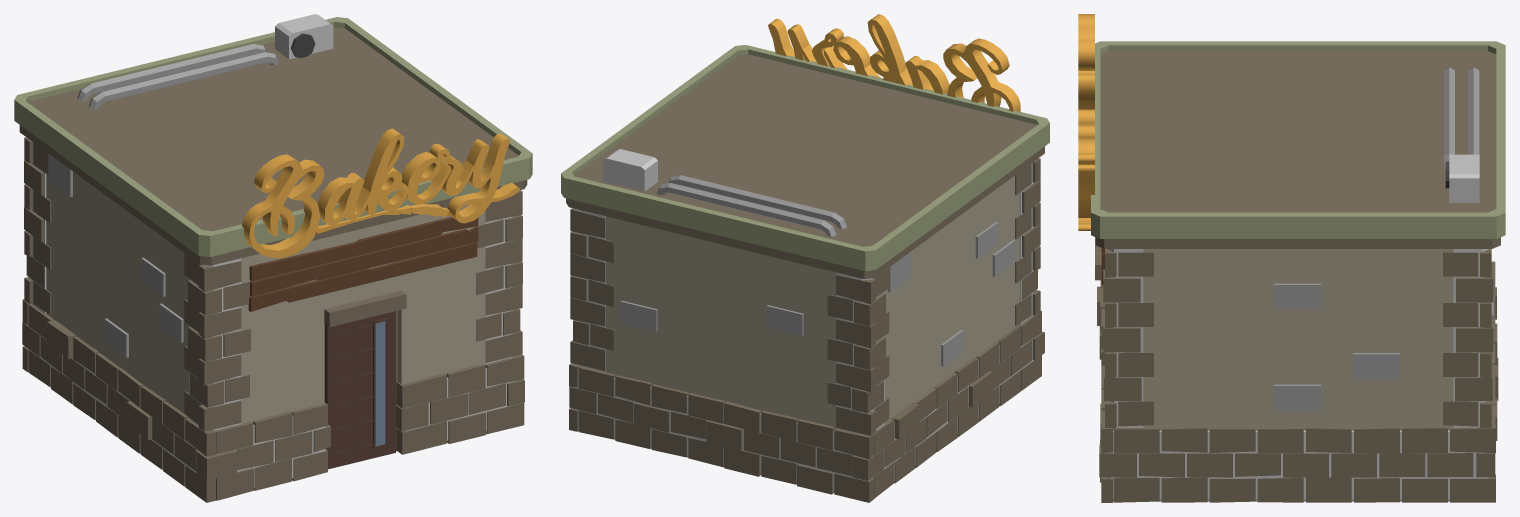
The model's file is Bakery.fbx.
3 renders of one model, left to right at view 1: azimuth 30°, elevation 25°; view 2: azimuth 150°, elevation 25°; view 3: azimuth 270°, elevation 25°, orthographic. The views are drawn at different scales.
Parts seen in each view (by area): view 1: 1Story_Sign_Mat, Sign_Bakery; view 2: 1Story_Sign_Mat, Sign_Bakery; view 3: 1Story_Sign_Mat, Sign_Bakery.
Boxes of the visible parts, bbox=[...] form: 1Story_Sign_Mat: bbox=[14, 14, 532, 502]; Sign_Bakery: bbox=[242, 128, 519, 258]; 1Story_Sign_Mat: bbox=[561, 45, 1049, 502]; Sign_Bakery: bbox=[768, 14, 1020, 111]; 1Story_Sign_Mat: bbox=[1091, 41, 1505, 502]; Sign_Bakery: bbox=[1078, 14, 1094, 230].
Bounding box in the file's own units: 215 × 205 × 222.
